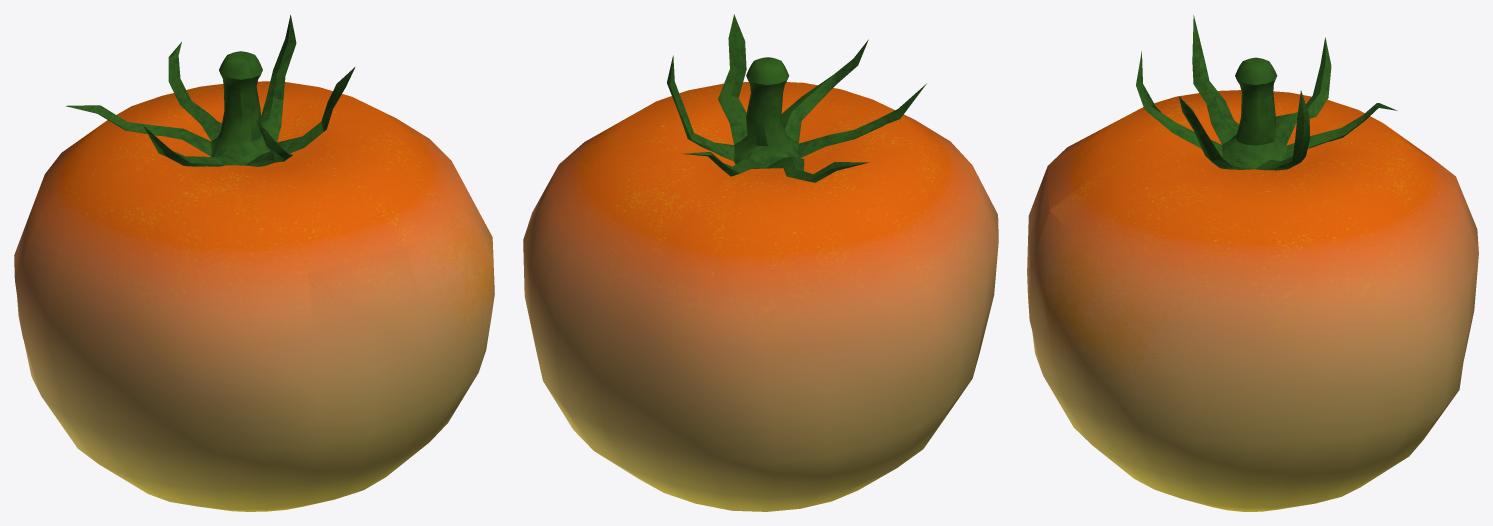
File: tomato12.fbx
3 renders of one model, left to right at view 1: azimuth 30°, elevation 25°; view 2: azimuth 150°, elevation 25°; view 3: azimuth 270°, elevation 25°, orthographic. The views are drawn at different scales.
Parts seen in each view (by area): view 1: Tomato12; view 2: Tomato12; view 3: Tomato12.
Part boxes in pixels (left/top/right/bottom): Tomato12: left=14, top=15, right=494, bottom=511; Tomato12: left=523, top=14, right=998, bottom=511; Tomato12: left=1027, top=15, right=1478, bottom=511.
Size of the model in its own units: 6.49 by 6.73 by 6.42.
1 material, 1 textured.
